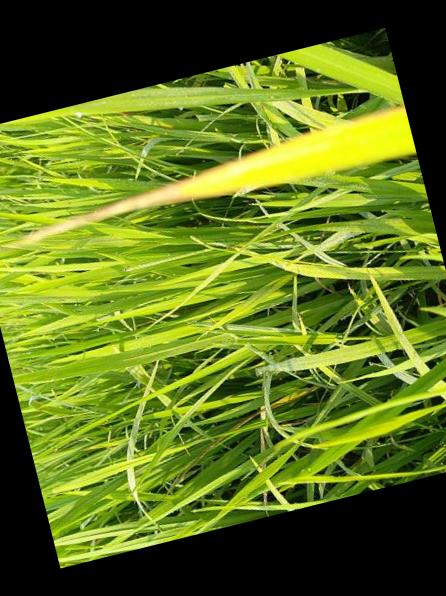Leaf Blight: (22, 135, 328, 242)
